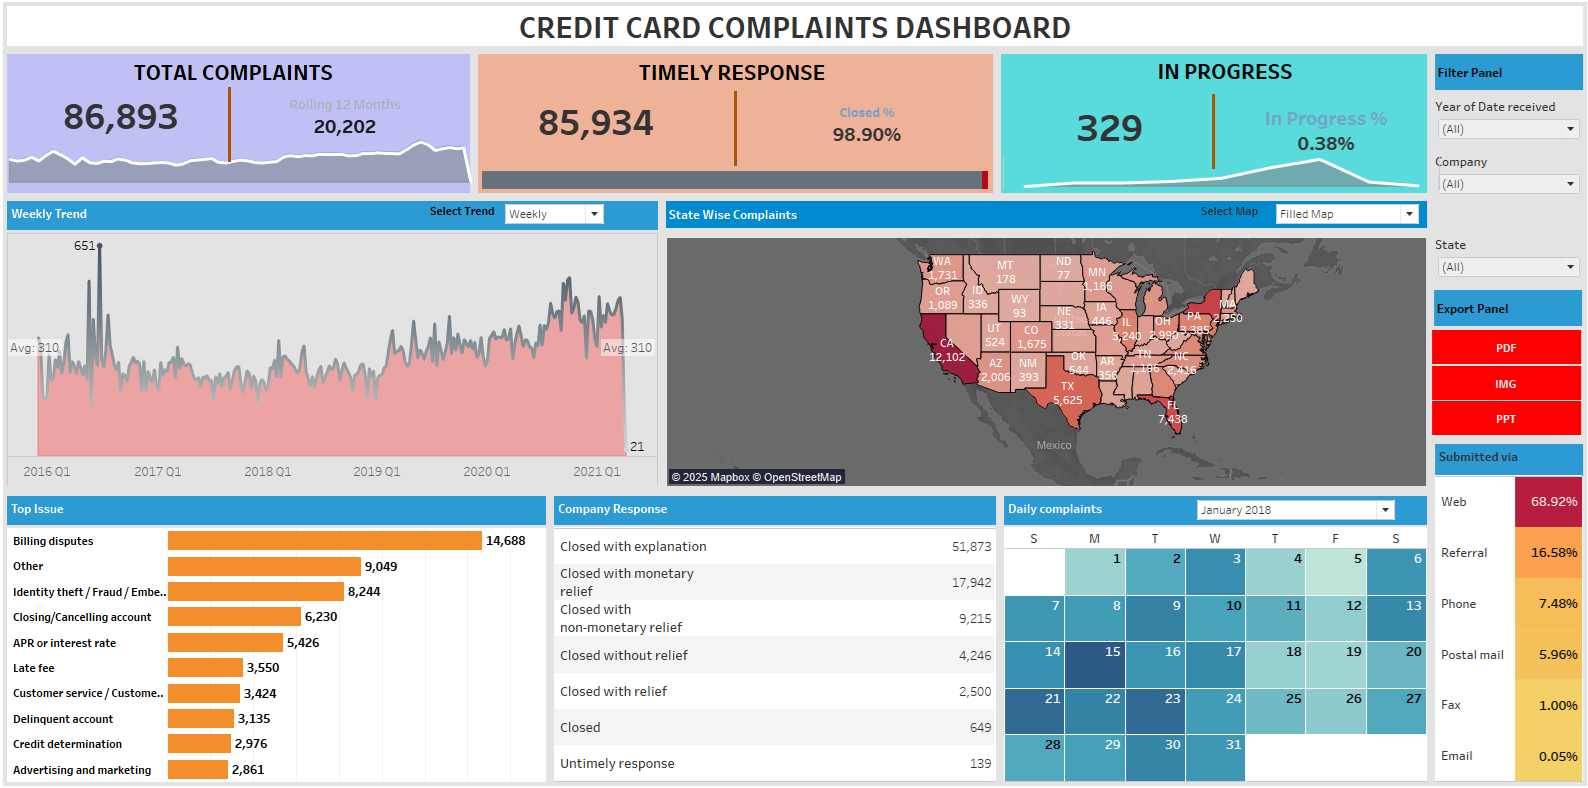

This screenshot's page, from the dashboard's own definition file:
{"tool":"tableau","page":{"name":"Dashboard 1","canvas":[1600,800],"ordinal":0},"visuals":[{"type":"title","box":[8,8,1584,48]},{"type":"blank","box":[8,56,471,147.4]},{"type":"blank","box":[479,56,523,147.4]},{"type":"blank","box":[1002,56,434,147.4]},{"type":"text","box":[1436,56,156,44]},{"type":"text","box":[1122,62,216,30]},{"type":"text","box":[136,63,216,30]},{"type":"text","box":[641,63,216,30]},{"type":"blank","box":[233,93,3,75]},{"type":"worksheet","title":"Timely Response","mark":"Automatic","box":[506,95,190,63]},{"type":"worksheet","title":"In Progress %","mark":"Automatic","box":[1248,95,166,82]},{"type":"blank","box":[739,97,3,75]},{"type":"worksheet","title":"In Progress Complaints","mark":"Automatic","box":[1050,97,129,70]},{"type":"worksheet","title":"Total Complaints","mark":"Automatic","box":[60,100,131,42]},{"type":"blank","box":[1217,100,3,75]},{"type":"filter","title":"Trend","param":"[federated.0ku4xzt0pk0xpn1awsdrz0dqbgyb].[yr:Date received:ok]","box":[1436,100,156,55]},{"type":"worksheet","title":"Rolling 12 month complaints","mark":"Automatic","box":[273,101,153,43]},{"type":"worksheet","title":"Closed Percentage","mark":"Automatic","box":[804,101,136,59]},{"type":"filter","title":"Trend","param":"[federated.0ku4xzt0pk0xpn1awsdrz0dqbgyb].[none:Company:nk]","box":[1436,155,156,83]},{"type":"worksheet","title":"In Progress Sparkling","mark":"Automatic","rows":["Calculation_1693353500141674505","Calculation_1693353500141674505"],"cols":["Date received"],"box":[1008,162,437,34]},{"type":"worksheet","title":"Progress bar","mark":"Bar","cols":["Calculation_1693353500140806152","Calculation_1693353500136030214"],"box":[487,174,531,24]},{"type":"worksheet","title":"Trend","mark":"Automatic","rows":["Number of Records","Number of Records"],"cols":["Calculation_1693353500333084683"],"box":[8,203.4,659,294.3]},{"type":"text","box":[667,203.4,769,35]},{"type":"parameter","param":"[Parameters].[Parameter 2]","box":[435,207,177,27]},{"type":"parameter","param":"[Parameters].[Parameter 3]","box":[1206,207,221,26]},{"type":"filter","title":"Trend","param":"[federated.0ku4xzt0pk0xpn1awsdrz0dqbgyb].[none:State:nk]","box":[1436,238,156,75]},{"type":"worksheet","title":"Density Charts","mark":"Heatmap","box":[667,238.4,769,1]},{"type":"worksheet","title":"Filled Map","mark":"Automatic","box":[667,239.4,769,258.3]},{"type":"text","box":[1435,292,156,44]},{"type":"blank","box":[1436,313,156,133]},{"type":"dashboard-object","box":[1437,336,149,34]},{"type":"dashboard-object","box":[1437,372,149,34]},{"type":"dashboard-object","box":[1437,407,149,34]},{"type":"worksheet","title":"Submitted via","mark":"Square","rows":["Submitted via"],"box":[1436,446,156,346]},{"type":"worksheet","title":"Top Issue","mark":"Automatic","rows":["Issue"],"cols":["Number of Records"],"box":[8,497.7,547,294.3]},{"type":"worksheet","title":"Company response","mark":"Automatic","rows":["Company response to consumer"],"box":[555,497.7,450,294.3]},{"type":"worksheet","title":"Daily complaints","mark":"Square","rows":["Date received"],"cols":["Date received"],"box":[1005,497.7,431,294.3]},{"type":"filter","title":"Daily complaints","param":"[federated.0ku4xzt0pk0xpn1awsdrz0dqbgyb].[my:Date received:ok]","box":[1199,503,204,26]}]}

Visuals, with their boxes in screenshot pixels (x1, y1, x2, y2), scaled from the page's 1600x800 canvas onto the 1588x788 screenshot:
title: 8 8 1580 55
blank: 8 55 475 200
blank: 475 55 994 200
blank: 994 55 1425 200
text: 1425 55 1580 98
text: 1114 61 1328 91
text: 135 62 349 92
text: 636 62 851 92
blank: 231 92 234 165
"Timely Response" worksheet: 502 94 691 156
"In Progress %" worksheet: 1239 94 1403 174
blank: 733 96 736 169
"In Progress Complaints" worksheet: 1042 96 1170 164
"Total Complaints" worksheet: 60 98 190 140
blank: 1208 98 1211 172
"Trend" filter: 1425 98 1580 153
"Rolling 12 month complaints" worksheet: 271 99 423 142
"Closed Percentage" worksheet: 798 99 933 158
"Trend" filter: 1425 153 1580 234
"In Progress Sparkling" worksheet: 1000 160 1434 193
"Progress bar" worksheet (Bar marks): 483 171 1010 195
"Trend" worksheet: 8 200 662 490
text: 662 200 1425 235
parameter: 432 204 607 230
parameter: 1197 204 1416 230
"Trend" filter: 1425 234 1580 308
"Density Charts" worksheet (Heatmap marks): 662 235 1425 236
"Filled Map" worksheet: 662 236 1425 490
text: 1424 288 1579 331
blank: 1425 308 1580 439
dashboard-object: 1426 331 1574 364
dashboard-object: 1426 366 1574 400
dashboard-object: 1426 401 1574 434
"Submitted via" worksheet (Square marks): 1425 439 1580 780
"Top Issue" worksheet: 8 490 551 780
"Company response" worksheet: 551 490 997 780
"Daily complaints" worksheet (Square marks): 997 490 1425 780
"Daily complaints" filter: 1190 495 1392 521
